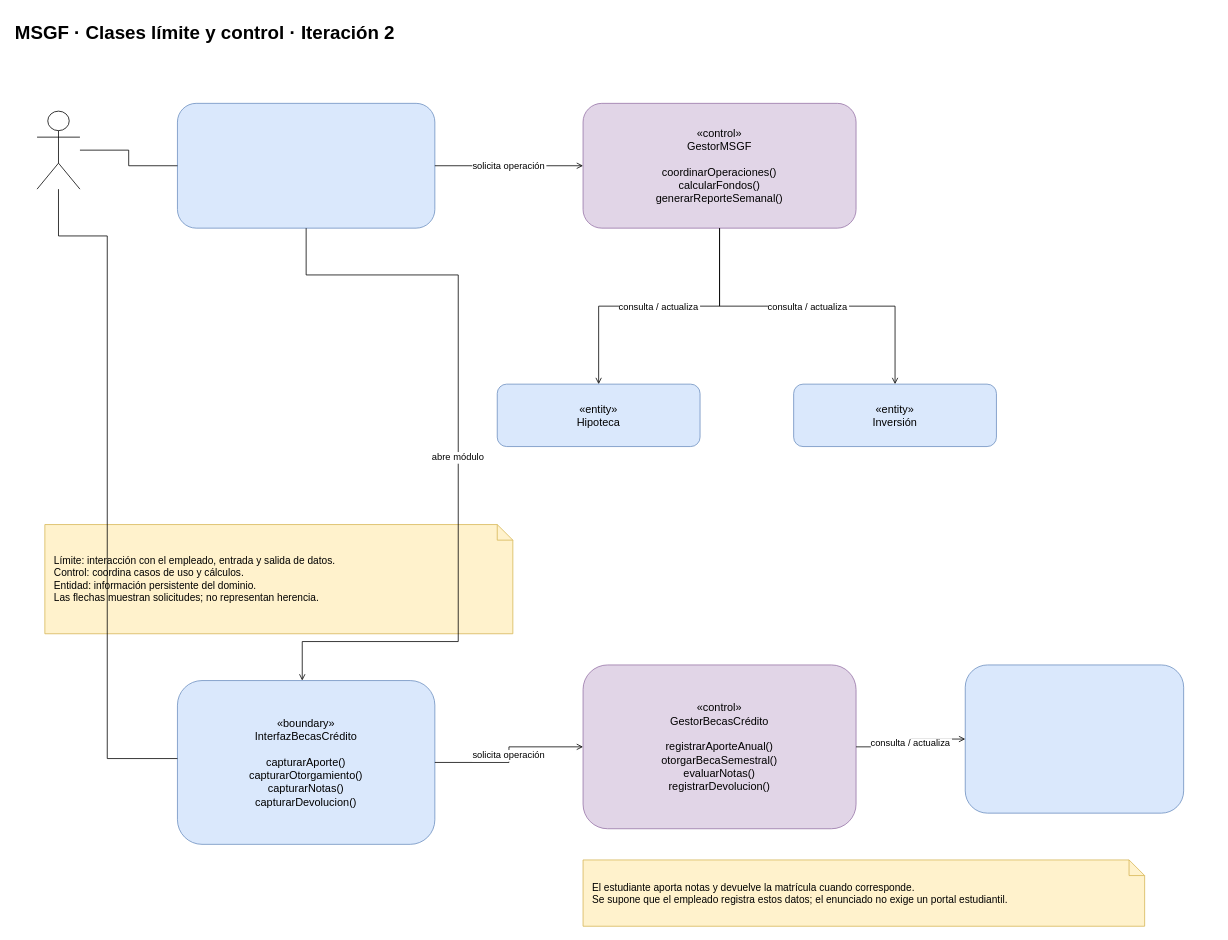
Image size: 1228x940. Some labels were removed from this diagram. The shapes that lost their labels are listed below. From the top down, each one's centre as x and y in pixels, then its label:
point 58,149: Empleado
point 306,165: «boundary» InterfazUsuarioMSGF mostrarMenú() capturarDatos() mostrarResultados()
point 1074,738: «entity» AporteAnualBecas Estudiante BecaCrédito RegistroNotas PolíticaAcadémica
